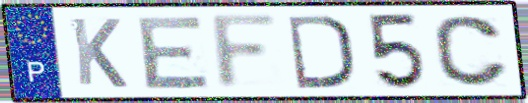5: (366, 11, 428, 91)
C: (430, 13, 512, 89)
D: (284, 13, 356, 91)
E: (135, 13, 213, 92)
F: (208, 11, 282, 93)
K: (68, 15, 131, 90)
